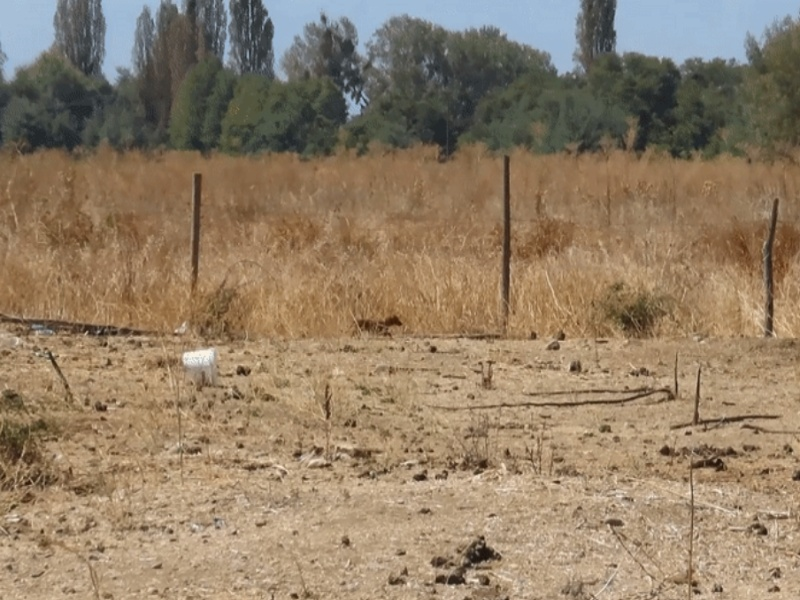dog: (348, 315, 404, 335)
